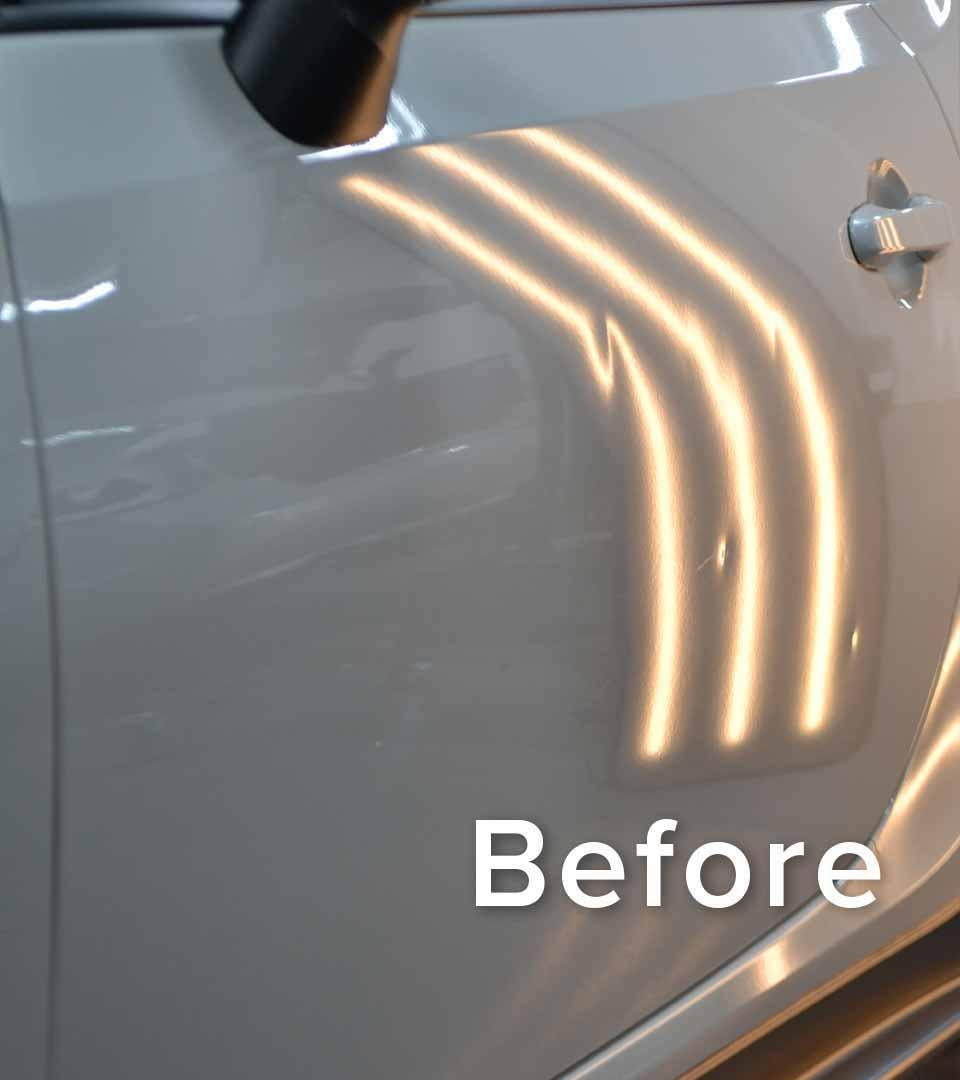dent: (543, 254, 868, 618)
